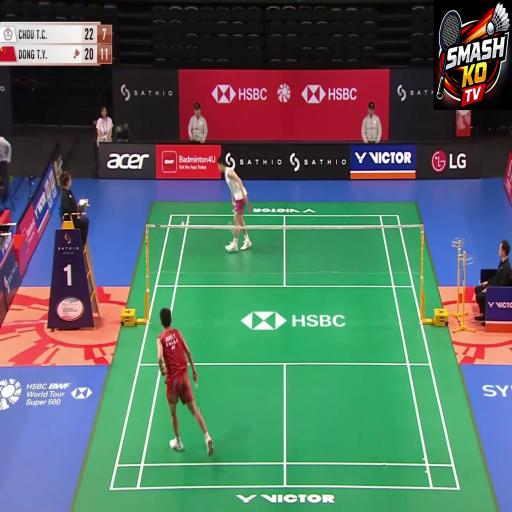player: (148, 295, 215, 469), (202, 142, 261, 277)
